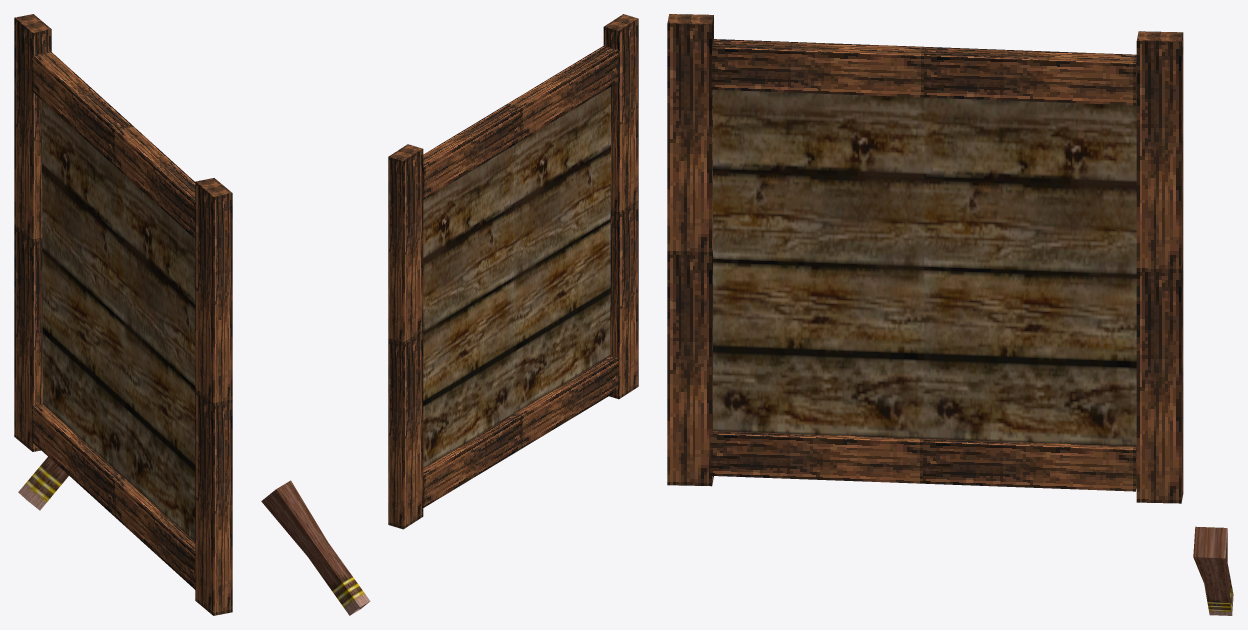
Rendered from RM_LARGE_SLUCE_SWITCH.obj.
The picture shows the model from 3 angles, left to right: view 1: azimuth 30°, elevation 25°; view 2: azimuth 150°, elevation 25°; view 3: azimuth 270°, elevation 25°; orthographic projection. The views are drawn at different scales.
Visible parts, largest first — view 1: Object05, _switch_pole_01; view 2: Object05, _switch_pole_01; view 3: Object05, _switch_pole_01.
Part boxes in pixels (left/top/right/bottom): Object05: left=14, top=14, right=232, bottom=615; _switch_pole_01: left=18, top=457, right=68, bottom=510; Object05: left=388, top=14, right=638, bottom=529; _switch_pole_01: left=261, top=480, right=370, bottom=615; Object05: left=667, top=14, right=1183, bottom=503; _switch_pole_01: left=1193, top=526, right=1233, bottom=615.
Bounding box in the file's own units: 89.75 × 247 × 225.
